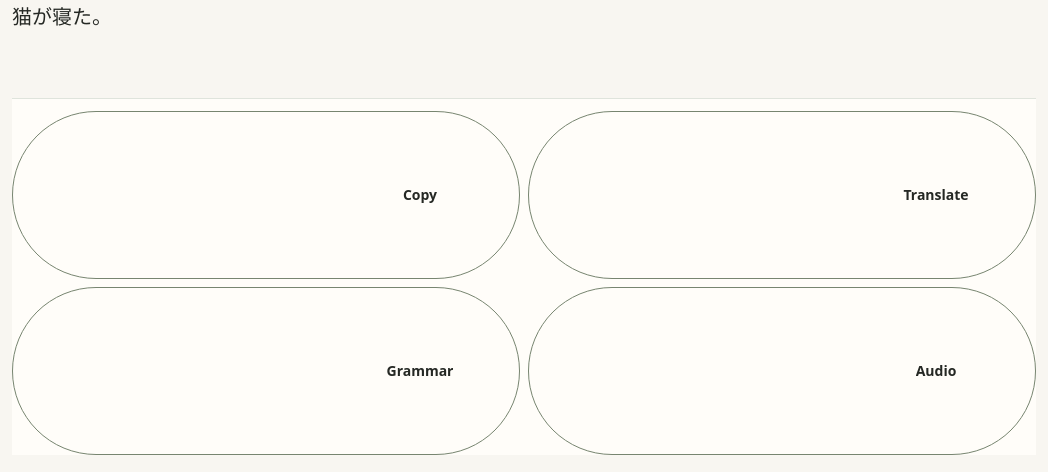
Scenario: SentencePopoverComponent › copies the immutable Japanese sentence and reports success on the action
The width and height of the screenshot is (1048, 472).
Click the button "Copy".
click(266, 195)  # box x1=12 y1=111 x2=520 y2=279
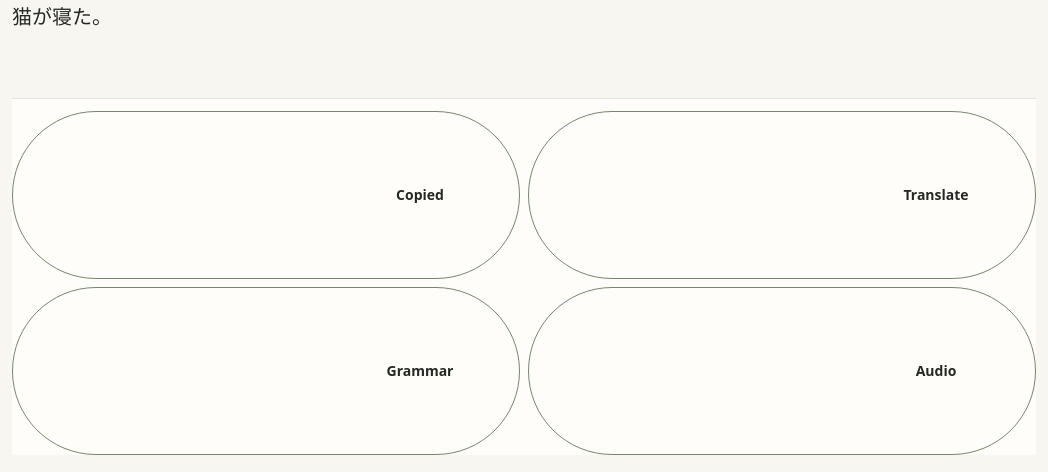
Expected: the text "Copied" is shown, x1=396 y1=186 x2=444 y2=204
